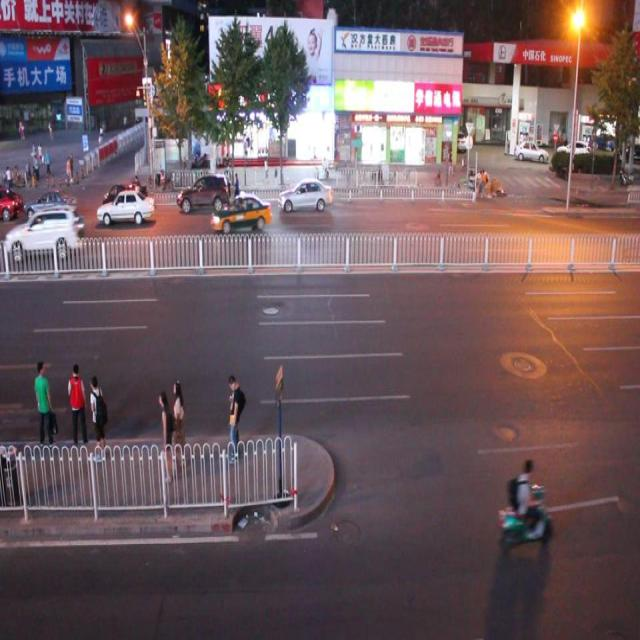car: (1, 205, 79, 260), (211, 191, 271, 233), (176, 171, 230, 211), (99, 188, 154, 226), (279, 176, 331, 212), (23, 188, 77, 220), (105, 178, 142, 215), (1, 185, 21, 220)
